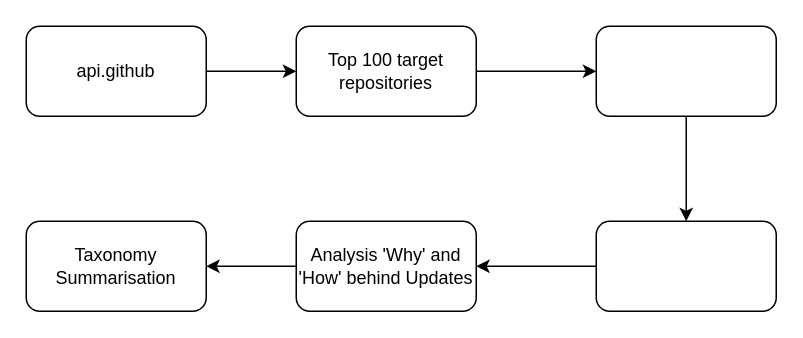
The diagram is 803 pixels wide and 338 high, and some of its shapes have lost their labels. Here are the shapes that lost their labels. From the top down, the box of each, then its label:
(595, 25, 776, 116): Macaron Framework
(595, 220, 776, 311): Manual Inspection for Suspicious Updates
